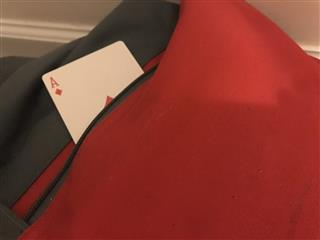AceOfDiamonds: (41, 40, 144, 142)
